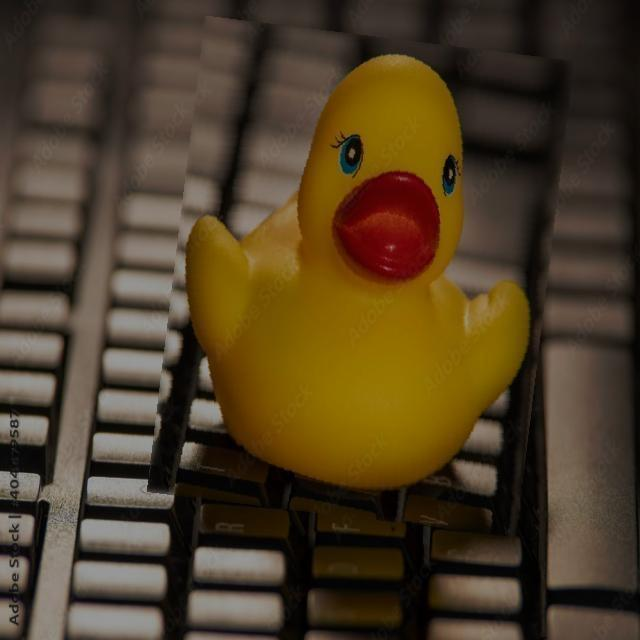rubber-duck: (185, 54, 527, 487)
